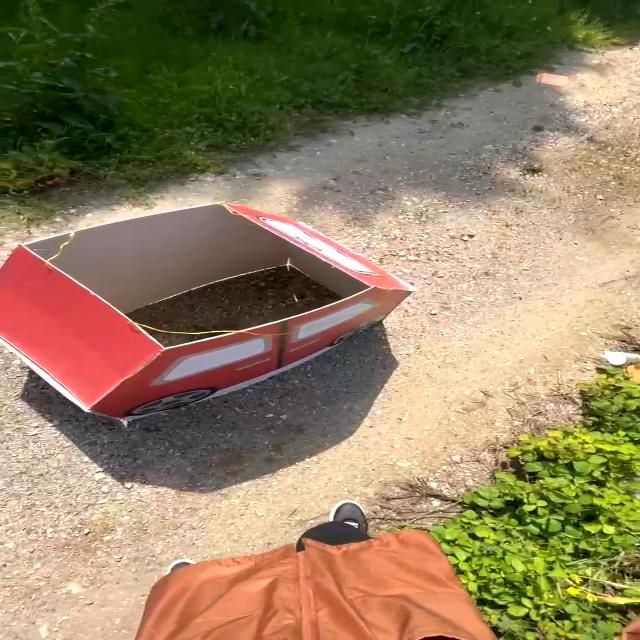red_car: (0, 197, 446, 442)
